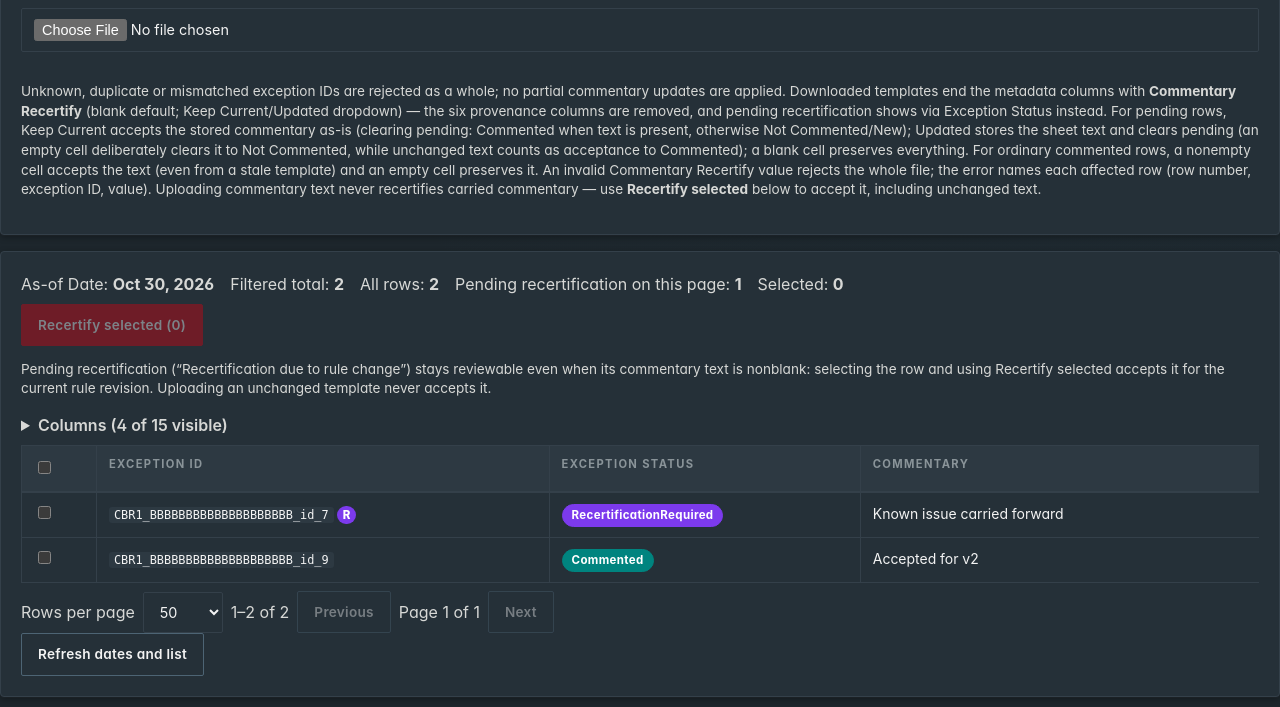
Test: ExceptionTrackingPage recertification › supports selection and explicit recertification of unchanged text
(page scrolled)
Click the checkbox named "Select exception CBR1_BBBBBBBBBBBBBBBBBBBB_id_7": click(44, 512) 38,506 -> 51,518
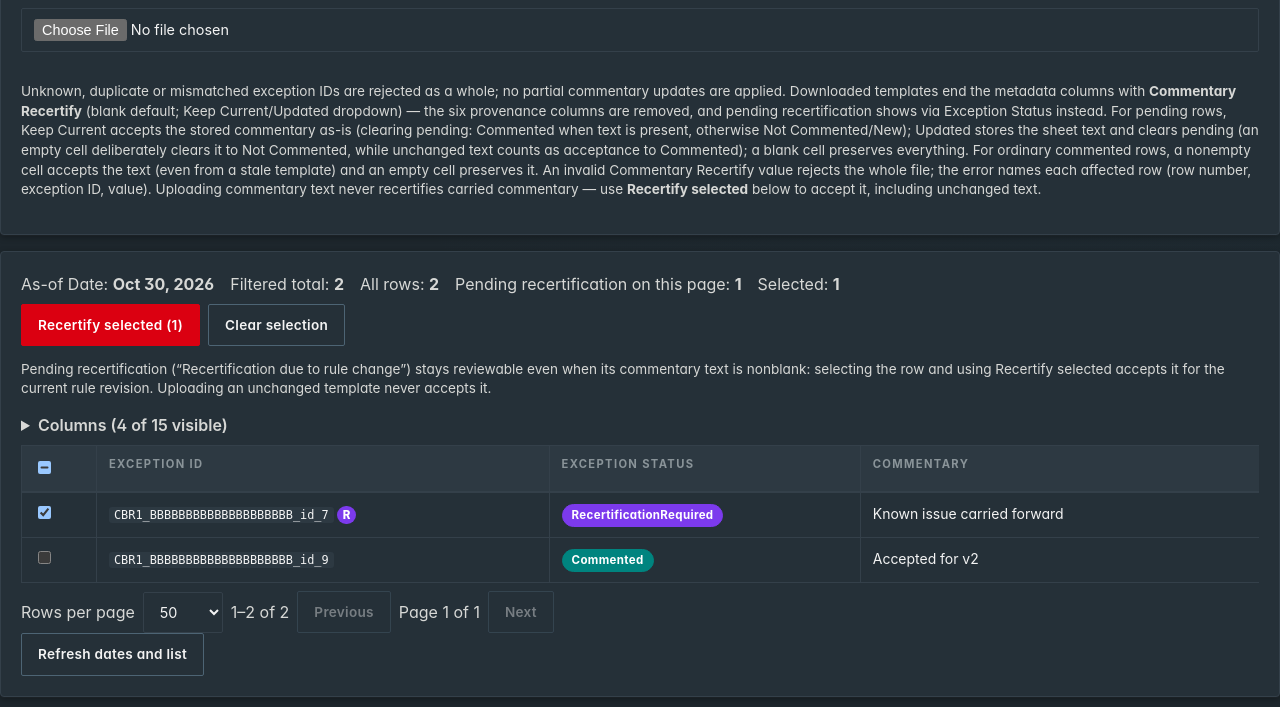
Click the button "Recertify selected (1)": click(111, 325) 21,304 -> 200,346
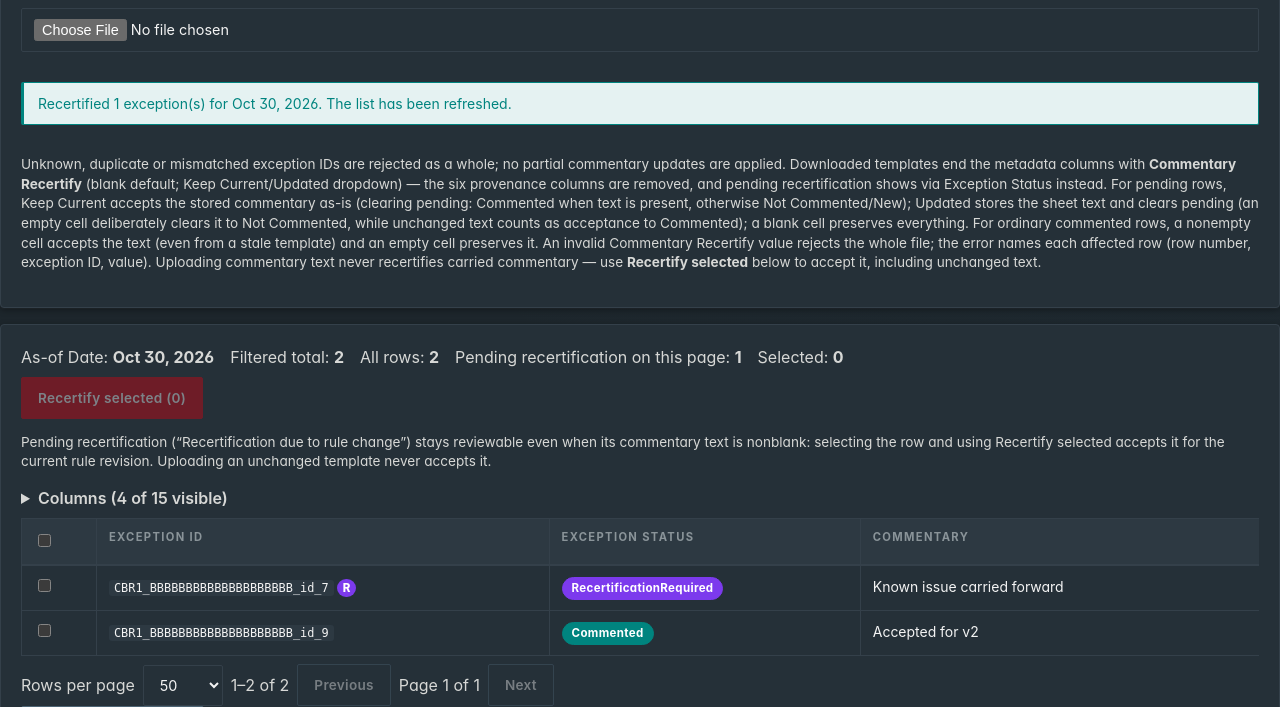
Expected: the text "Recertified 1 exception(s) for Oct 30, 2026. The list has been refreshed." is shown, 21,82 -> 1259,125
